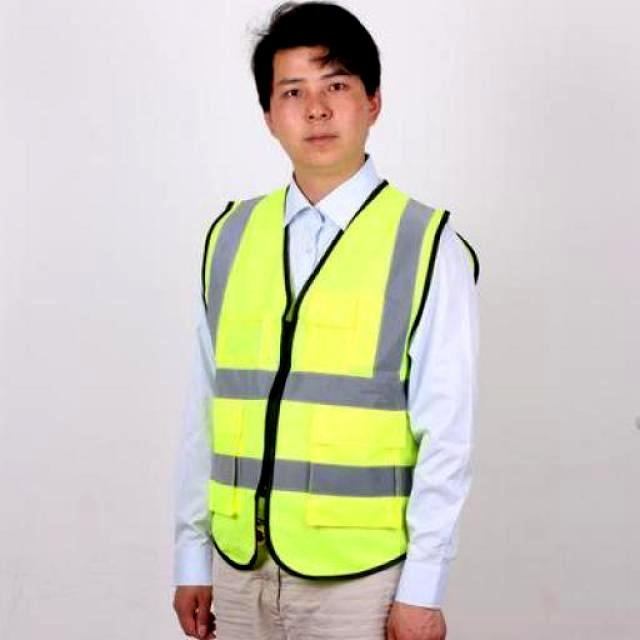no_head_wear: (251, 5, 379, 110)
person: (174, 5, 474, 639)
